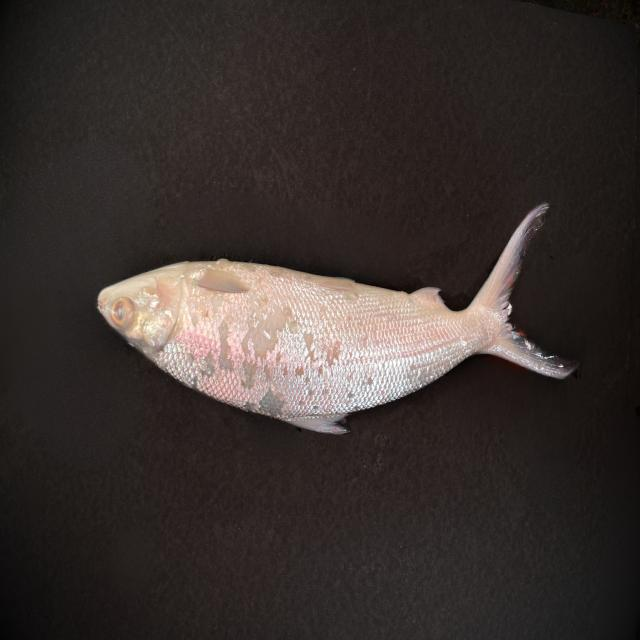805 g: (96, 201, 578, 435)
